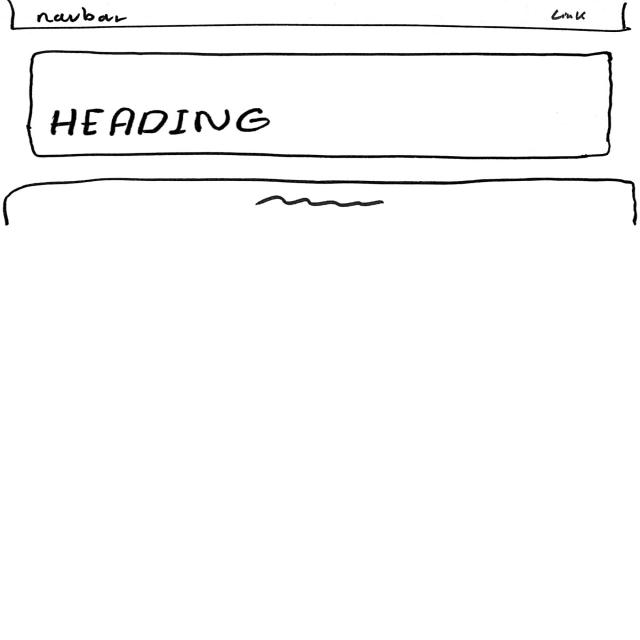container: (25, 46, 618, 164), (9, 1, 633, 32)
label: (45, 103, 278, 143), (28, 5, 137, 23), (544, 7, 600, 25)
text: (252, 192, 391, 215)
